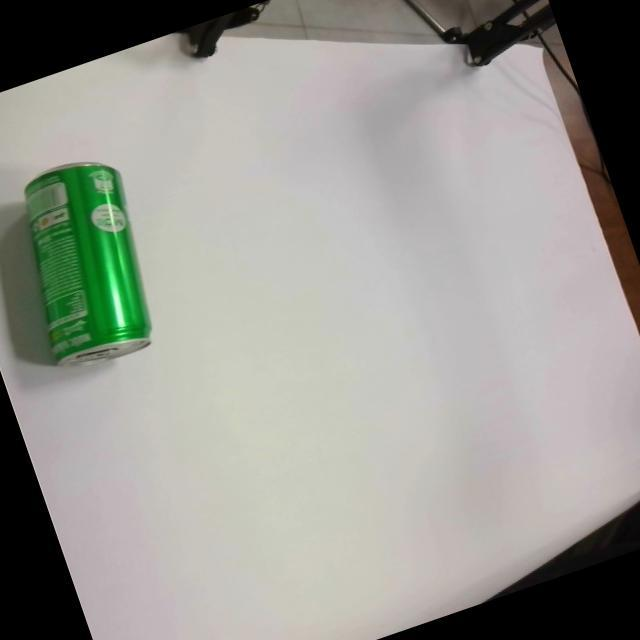debris: (0, 145, 177, 391)
